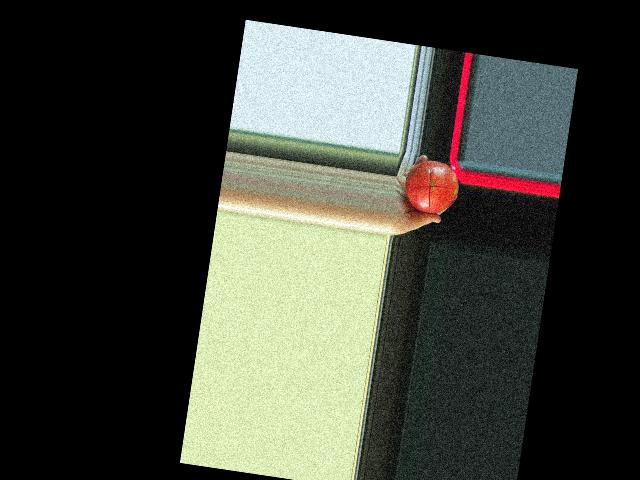tomato: (401, 156, 461, 216)
